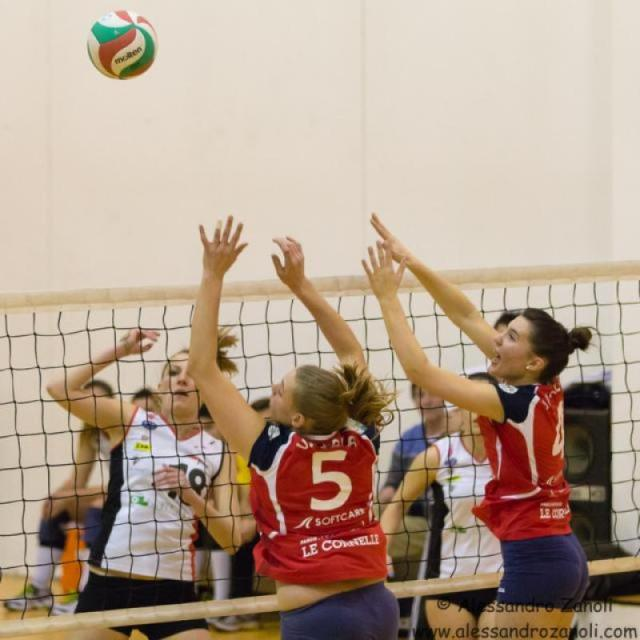volleyball: (82, 8, 160, 80)
